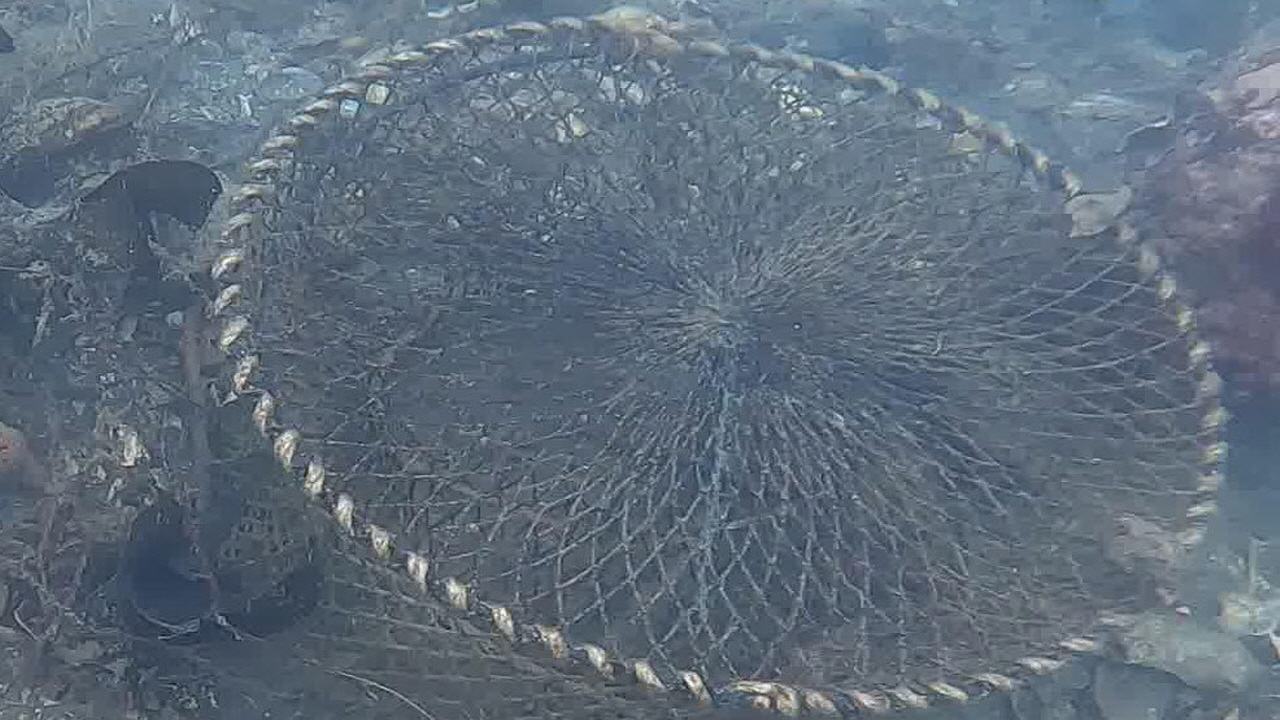circular fish trap: (209, 15, 1228, 720)
